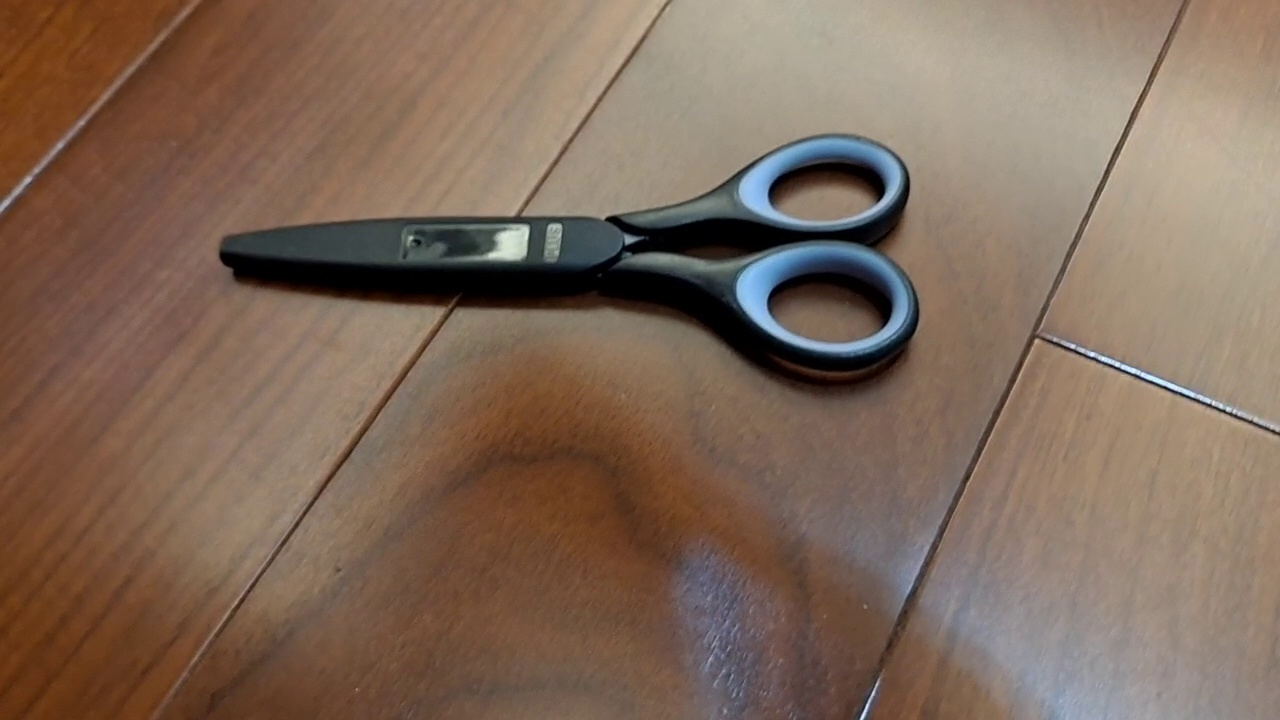scissors: (216, 131, 921, 374)
